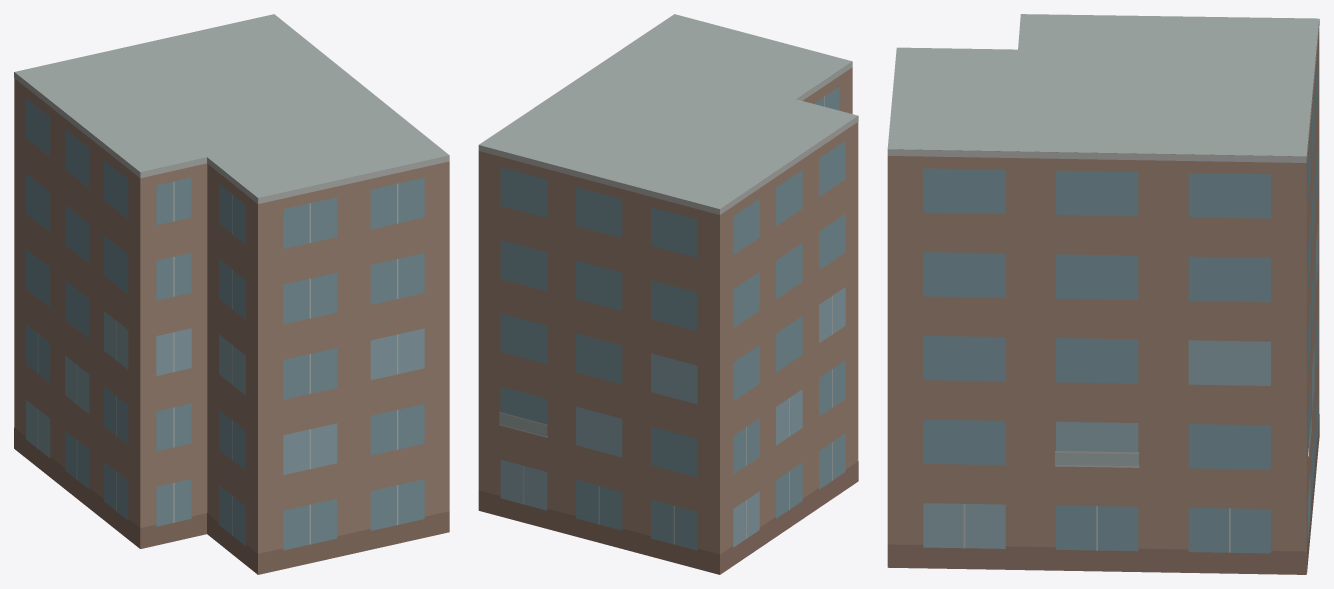
The model's file is survey-upis-32572847.glb.
3 views of the same model, side by side, from view 1: azimuth 30°, elevation 25°; view 2: azimuth 150°, elevation 25°; view 3: azimuth 270°, elevation 25° (orthographic). The views are drawn at different scales.
Visible parts, largest first — view 1: survey-upis-32572847.tmp; view 2: survey-upis-32572847.tmp; view 3: survey-upis-32572847.tmp.
Part boxes in pixels (x1=…): survey-upis-32572847.tmp: x1=14, y1=14, x2=449, y2=574; survey-upis-32572847.tmp: x1=478, y1=14, x2=858, y2=574; survey-upis-32572847.tmp: x1=887, y1=14, x2=1319, y2=574.
Bounding box in the file's own units: 11.13 × 15.25 × 14.27.
